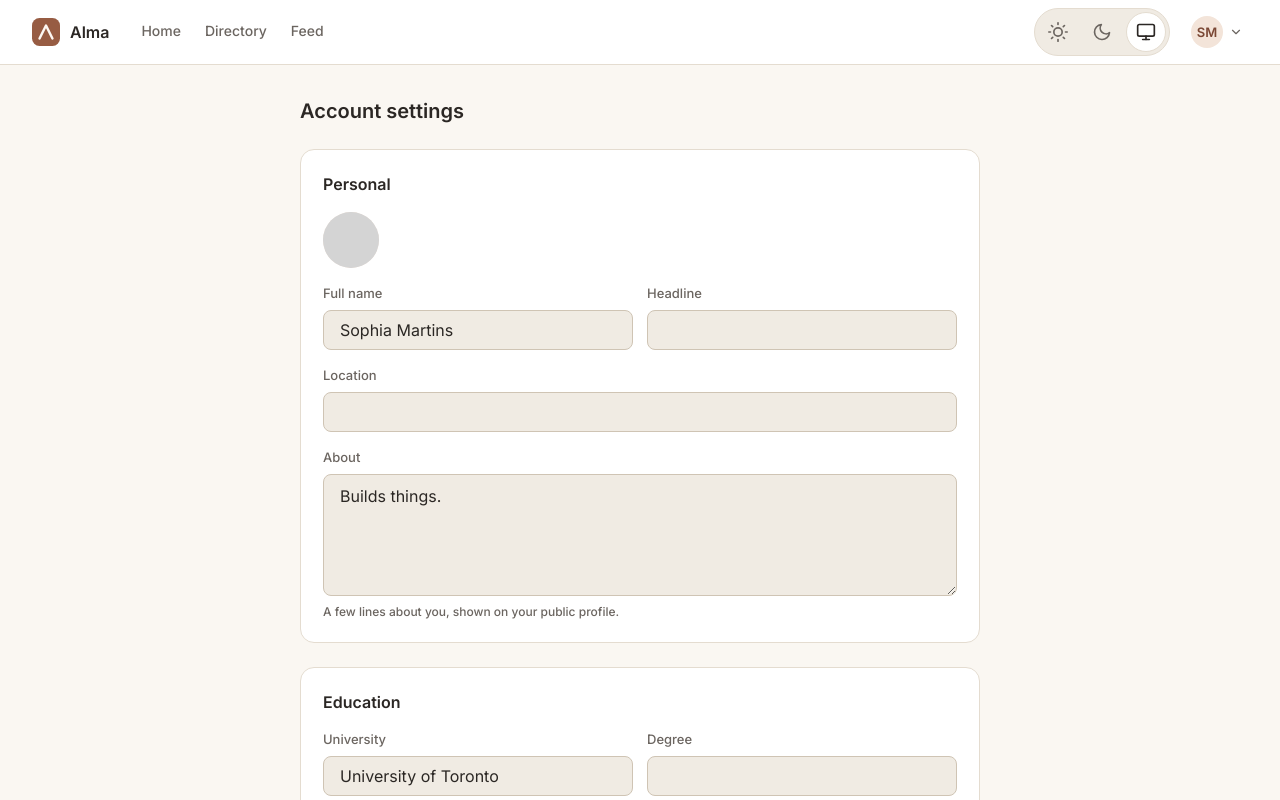
it: MePage saving › sends only the fields a alumni account can edit
Type " Jr" into the field labelled "Full name" at (478, 330), box 323,310 -> 633,350
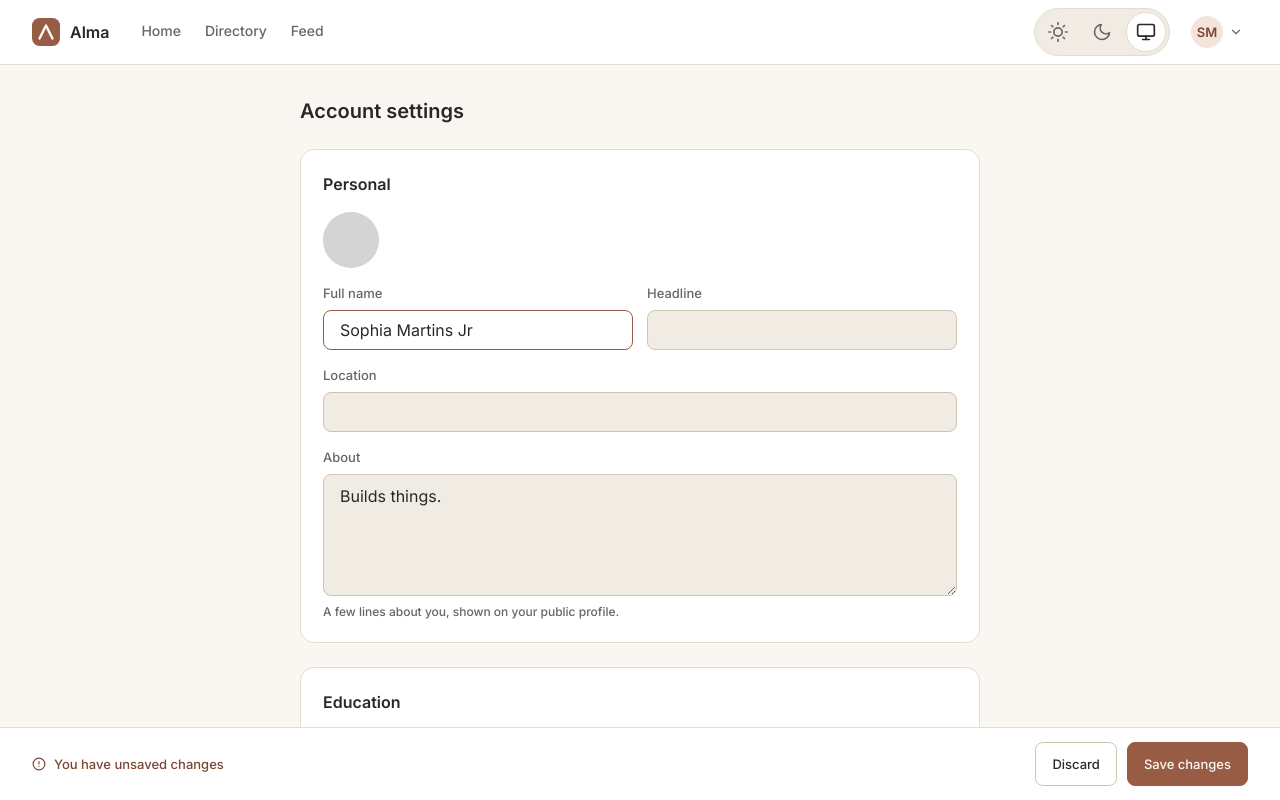
Click the button "Save changes" at (1187, 764), box 1127,742 -> 1248,786
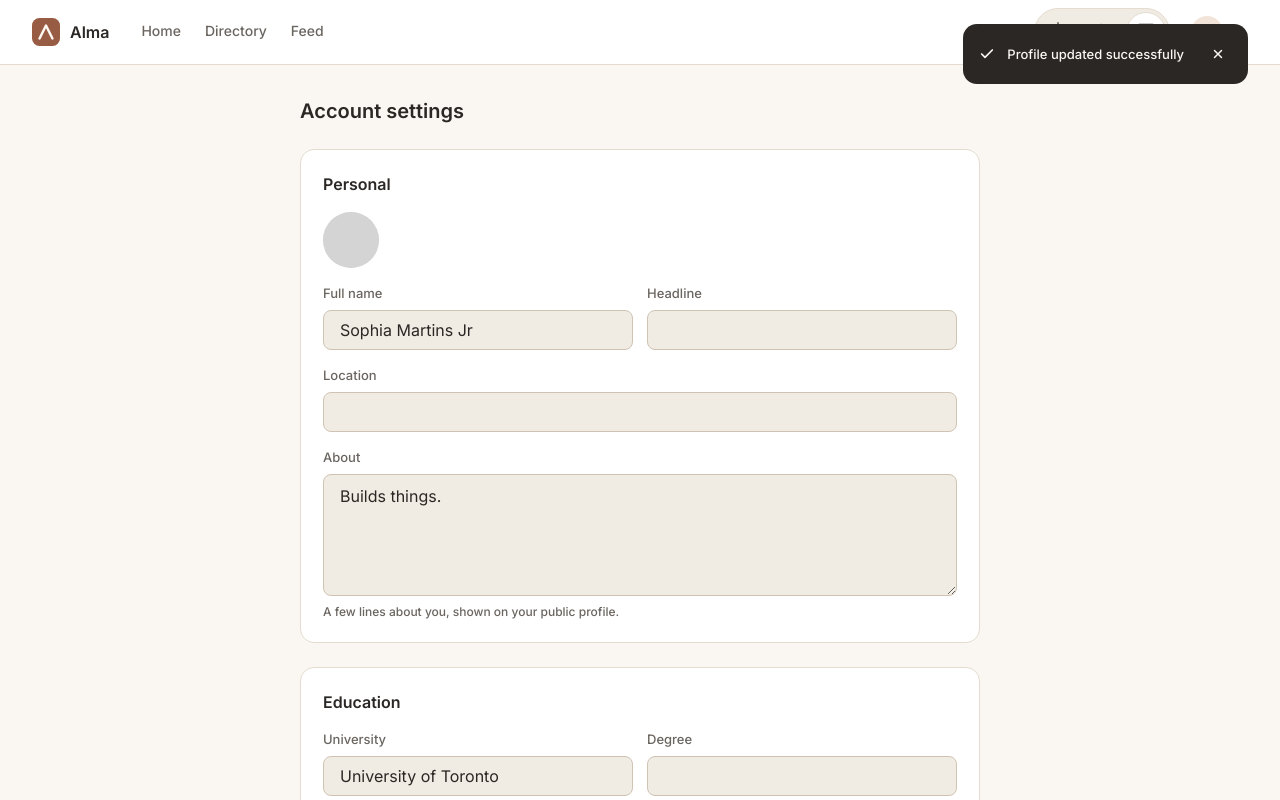
Expected: the text "Profile updated successfully" is shown, 1007,45 -> 1184,63
